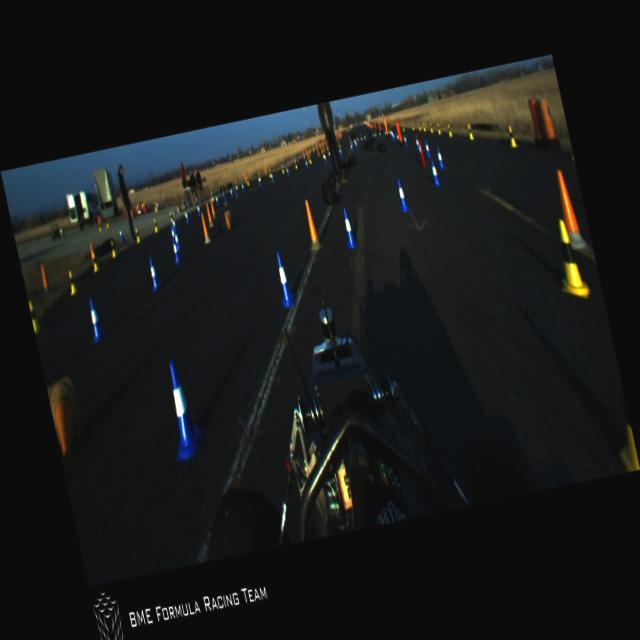blue_cone: (154, 356, 208, 464), (270, 248, 296, 308), (84, 296, 106, 342), (339, 206, 358, 250), (146, 256, 162, 293), (394, 177, 409, 213), (428, 158, 442, 188), (170, 238, 182, 264), (436, 145, 446, 170), (422, 138, 432, 160), (172, 228, 180, 252), (414, 136, 421, 152), (118, 226, 124, 242), (168, 222, 174, 238), (394, 131, 400, 144), (402, 134, 408, 146), (322, 150, 327, 163), (214, 192, 219, 205), (196, 203, 201, 216), (184, 210, 189, 223), (229, 185, 233, 198), (172, 215, 176, 228), (353, 138, 358, 148), (304, 158, 308, 170), (338, 146, 342, 156), (286, 166, 290, 176), (270, 172, 274, 182), (240, 182, 244, 192), (349, 142, 353, 151), (352, 138, 356, 146), (356, 134, 359, 144), (378, 130, 381, 139), (363, 134, 366, 141), (384, 128, 386, 136), (258, 177, 260, 185)
unknown_cone: (46, 378, 91, 465), (553, 165, 589, 254), (300, 197, 322, 253), (198, 212, 212, 244), (37, 260, 49, 292), (204, 202, 214, 228), (222, 210, 234, 230), (208, 196, 216, 219), (221, 190, 228, 206), (232, 184, 238, 198), (88, 240, 94, 250), (243, 172, 247, 184), (263, 165, 267, 176), (316, 146, 320, 156), (302, 149, 306, 159), (306, 152, 310, 162), (304, 146, 308, 152), (308, 146, 310, 155), (312, 144, 314, 152)
yellow_cone: (599, 366, 639, 473), (548, 218, 590, 302), (28, 299, 40, 332), (65, 269, 78, 295), (506, 123, 518, 148), (90, 250, 100, 272), (108, 240, 117, 258), (466, 122, 474, 140), (446, 122, 453, 138), (134, 228, 141, 242), (152, 217, 158, 232), (435, 122, 441, 134), (428, 122, 434, 134), (168, 210, 173, 222), (96, 221, 102, 231), (421, 121, 426, 132), (103, 221, 109, 229), (154, 201, 158, 212), (246, 175, 250, 186), (234, 179, 238, 189), (268, 168, 272, 178), (280, 164, 284, 174), (294, 158, 298, 168), (308, 154, 312, 164), (410, 121, 414, 130), (401, 123, 405, 132), (326, 146, 330, 155), (210, 190, 213, 201), (417, 122, 421, 130), (321, 150, 325, 158), (258, 171, 260, 180)
